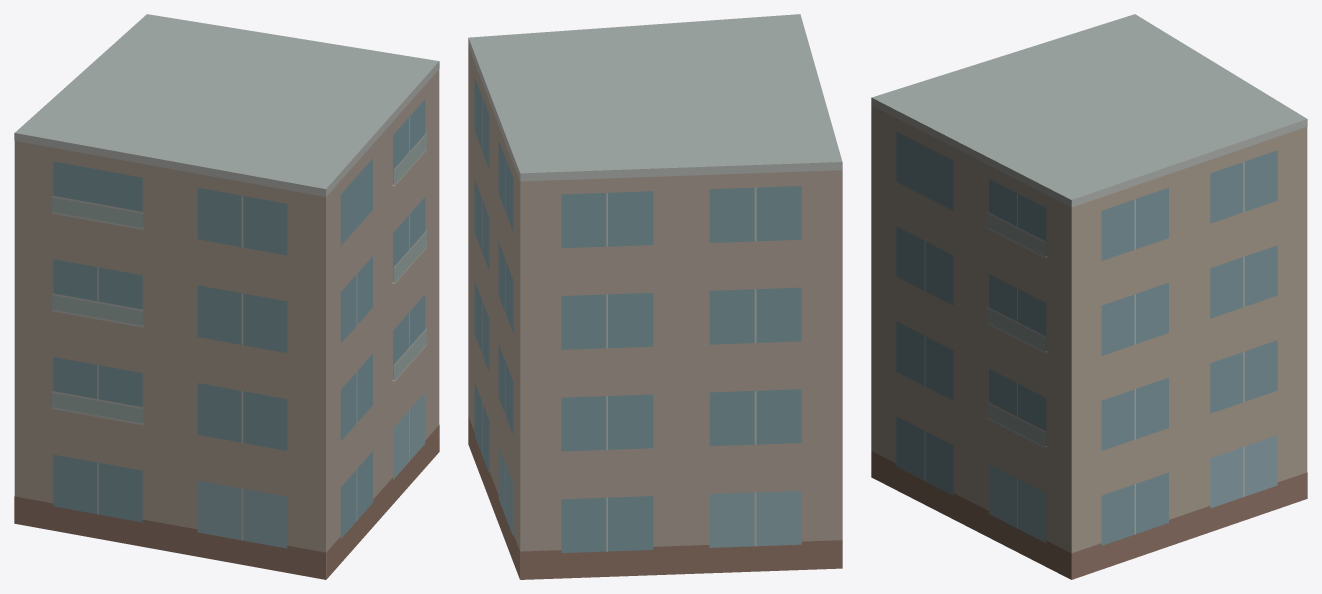
File: survey-upis-32651678.glb
3 renders of one model, left to right at view 1: azimuth 30°, elevation 25°; view 2: azimuth 150°, elevation 25°; view 3: azimuth 270°, elevation 25°, orthographic. The views are drawn at different scales.
Parts seen in each view (by area): view 1: survey-upis-32651678.tmp; view 2: survey-upis-32651678.tmp; view 3: survey-upis-32651678.tmp.
Part boxes in pixels (x1=…): survey-upis-32651678.tmp: x1=14, y1=14, x2=439, y2=579; survey-upis-32651678.tmp: x1=468, y1=14, x2=842, y2=579; survey-upis-32651678.tmp: x1=871, y1=14, x2=1307, y2=579.
Bounding box in the file's own units: 12.83 × 12.2 × 12.7.
